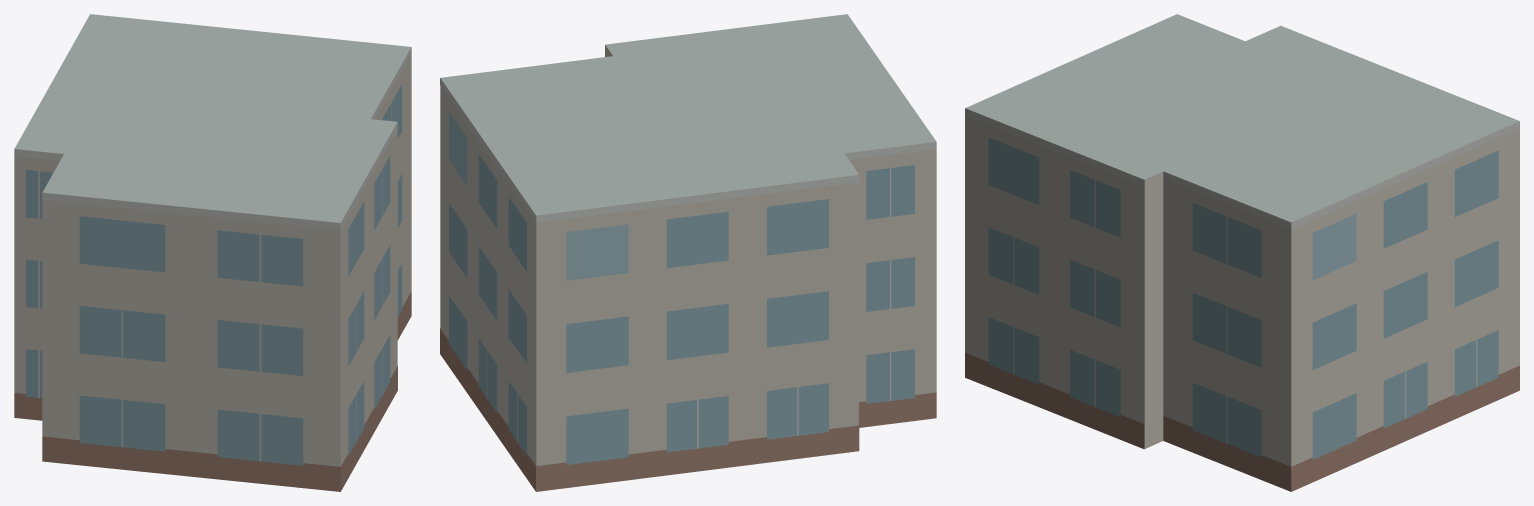
File: survey-upis-32826583.glb
3 views of the same model, side by side, from view 1: azimuth 30°, elevation 25°; view 2: azimuth 150°, elevation 25°; view 3: azimuth 270°, elevation 25° (orthographic). The views are drawn at different scales.
Visible parts, largest first — view 1: survey-upis-32826583.tmp; view 2: survey-upis-32826583.tmp; view 3: survey-upis-32826583.tmp.
Part boxes in pixels (x1,y1,x2,y2): survey-upis-32826583.tmp: (14, 14, 411, 491); survey-upis-32826583.tmp: (440, 14, 936, 491); survey-upis-32826583.tmp: (965, 14, 1519, 491).
Size of the model in its own units: 15.19 by 9.15 by 17.08.
